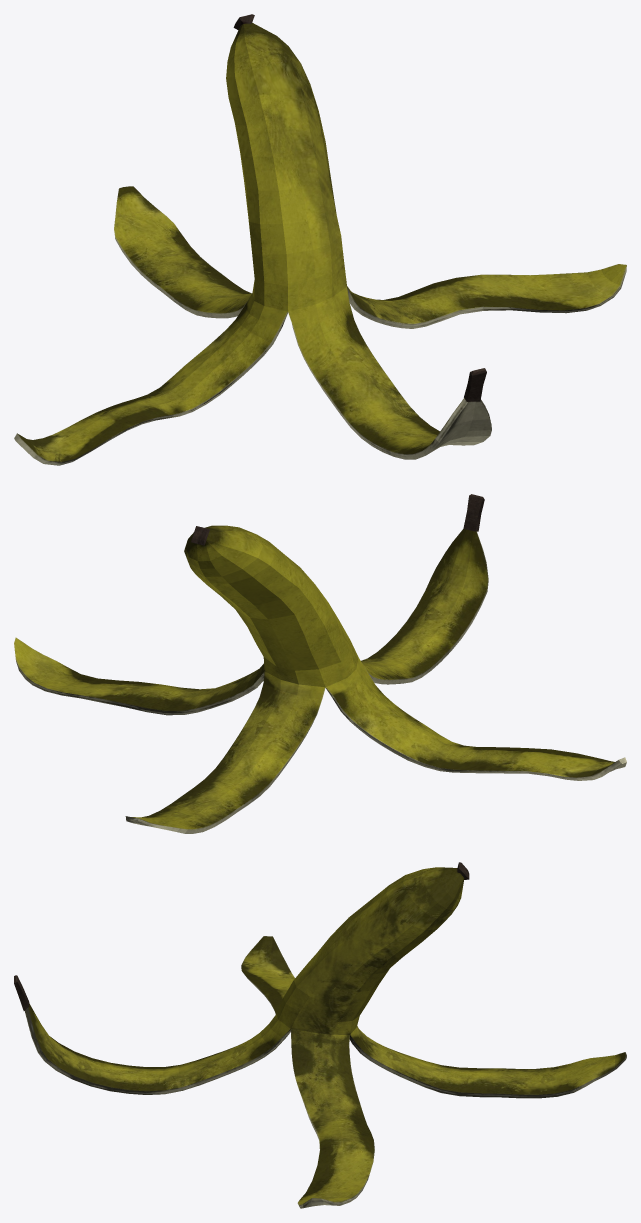
The model's file is banana.fbx.
3 views of the same model, one above another, from view 1: azimuth 30°, elevation 25°; view 2: azimuth 150°, elevation 25°; view 3: azimuth 270°, elevation 25° (orthographic). The views are drawn at different scales.
Visible parts, largest first — view 1: banana; view 2: banana; view 3: banana.
Boxes of the visible parts, box(x1,y1,x2,y2) form: banana: box(14, 14, 626, 465); banana: box(14, 494, 626, 833); banana: box(14, 862, 626, 1208).
Size of the model in its own units: 65.46 by 27.97 by 65.03.
1 material, 1 textured.
